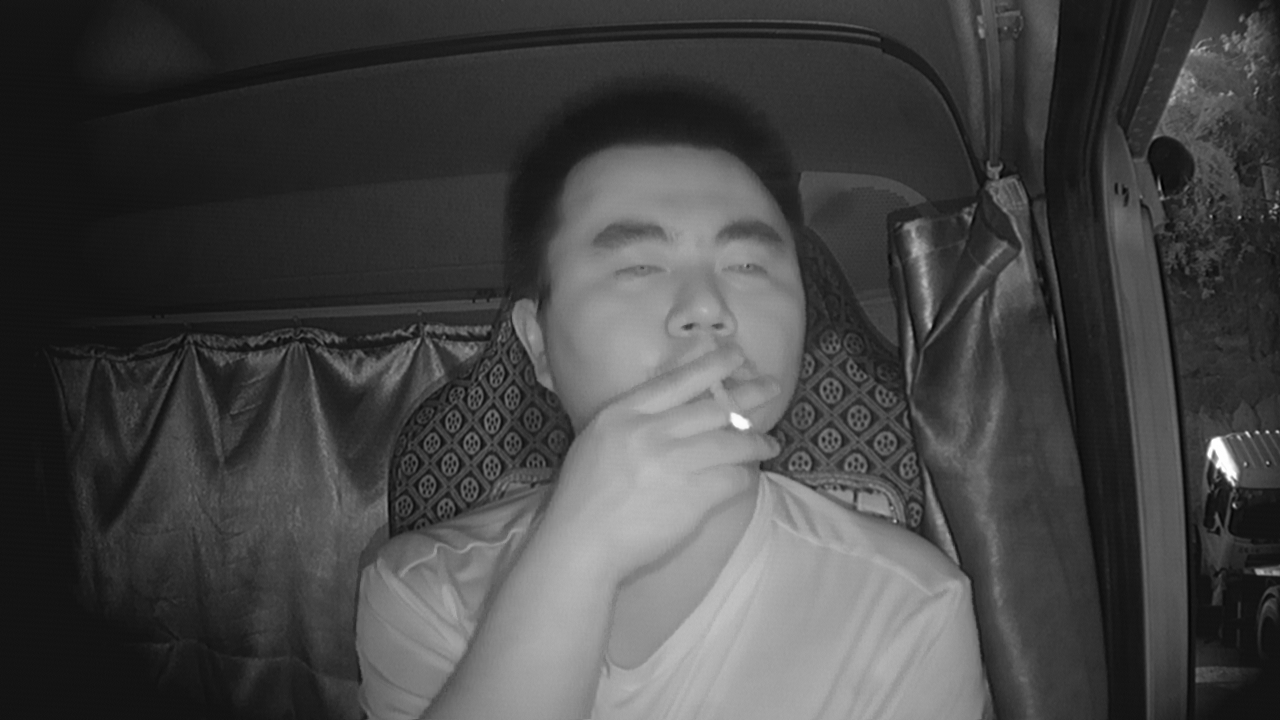hand: (623, 350, 782, 509)
